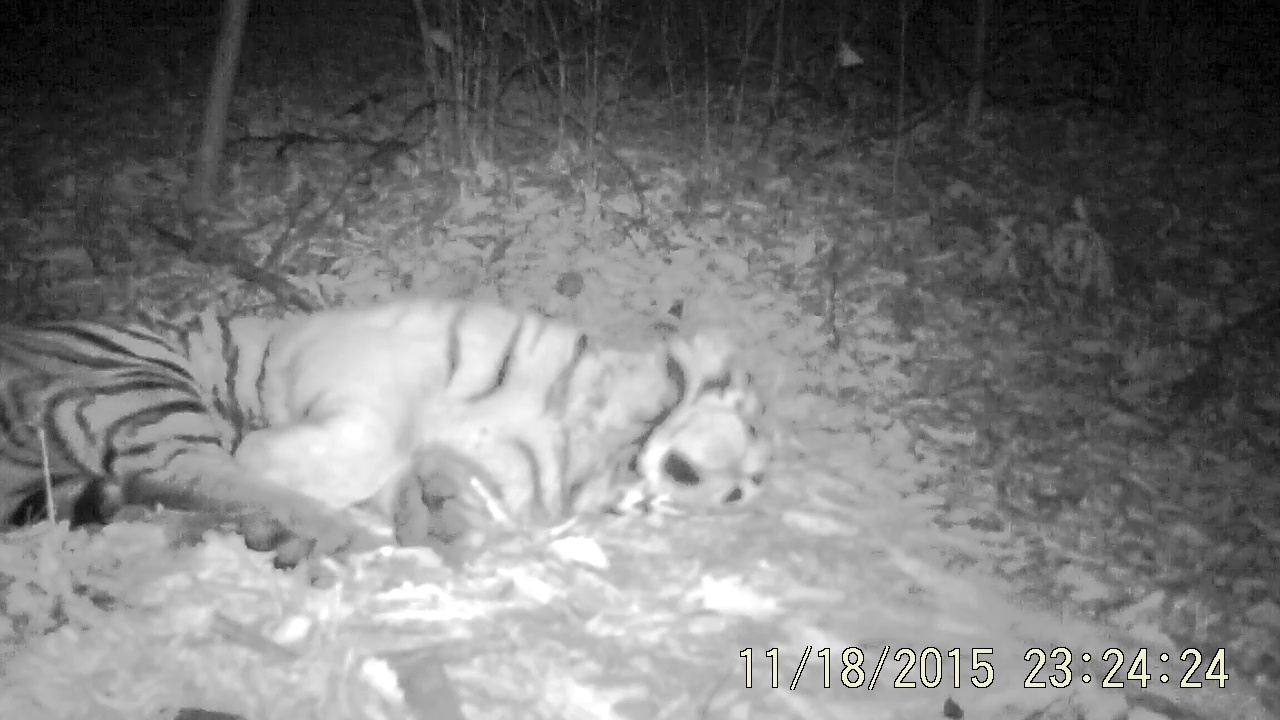Tiger: (4, 149, 932, 616)
